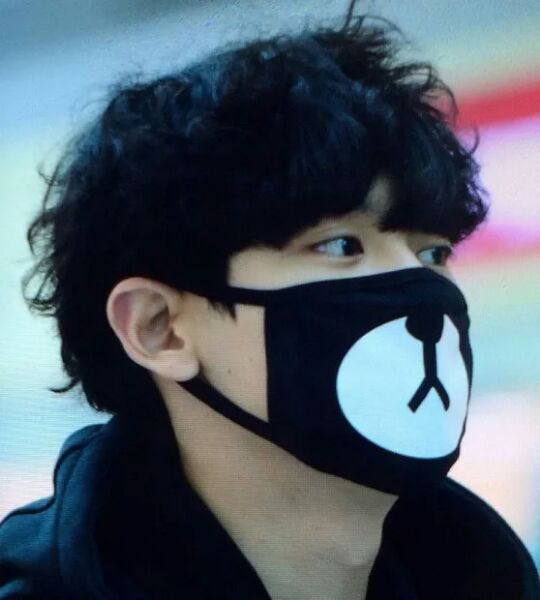face_mask: (210, 156, 447, 463)
